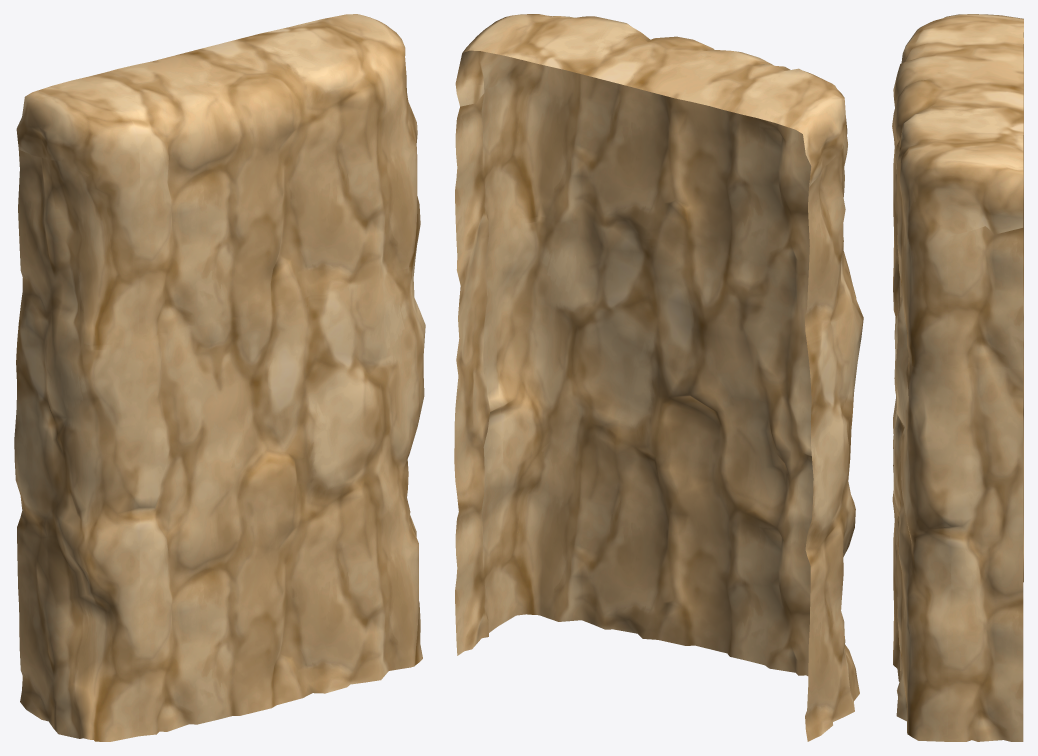
File: SM_ENV_KNFRST_LargeCliff_A.FBX
3 renders of one model, left to right at view 1: azimuth 30°, elevation 25°; view 2: azimuth 150°, elevation 25°; view 3: azimuth 270°, elevation 25°, orthographic. The views are drawn at different scales.
Parts seen in each view (by area): view 1: SM_ENV_KNFRST_LargeCliff_A; view 2: SM_ENV_KNFRST_LargeCliff_A; view 3: SM_ENV_KNFRST_LargeCliff_A.
Boxes of the visible parts, left/top/right/bottom form: SM_ENV_KNFRST_LargeCliff_A: left=14, top=14, right=425, bottom=741; SM_ENV_KNFRST_LargeCliff_A: left=454, top=14, right=863, bottom=741; SM_ENV_KNFRST_LargeCliff_A: left=892, top=14, right=1023, bottom=741.
Bounding box in the file's own units: 1516 × 2465 × 512.
